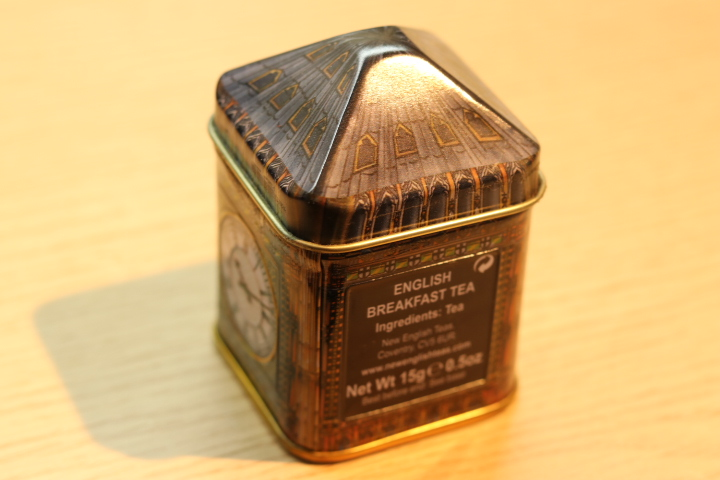Big Ben: (196, 14, 581, 477)
